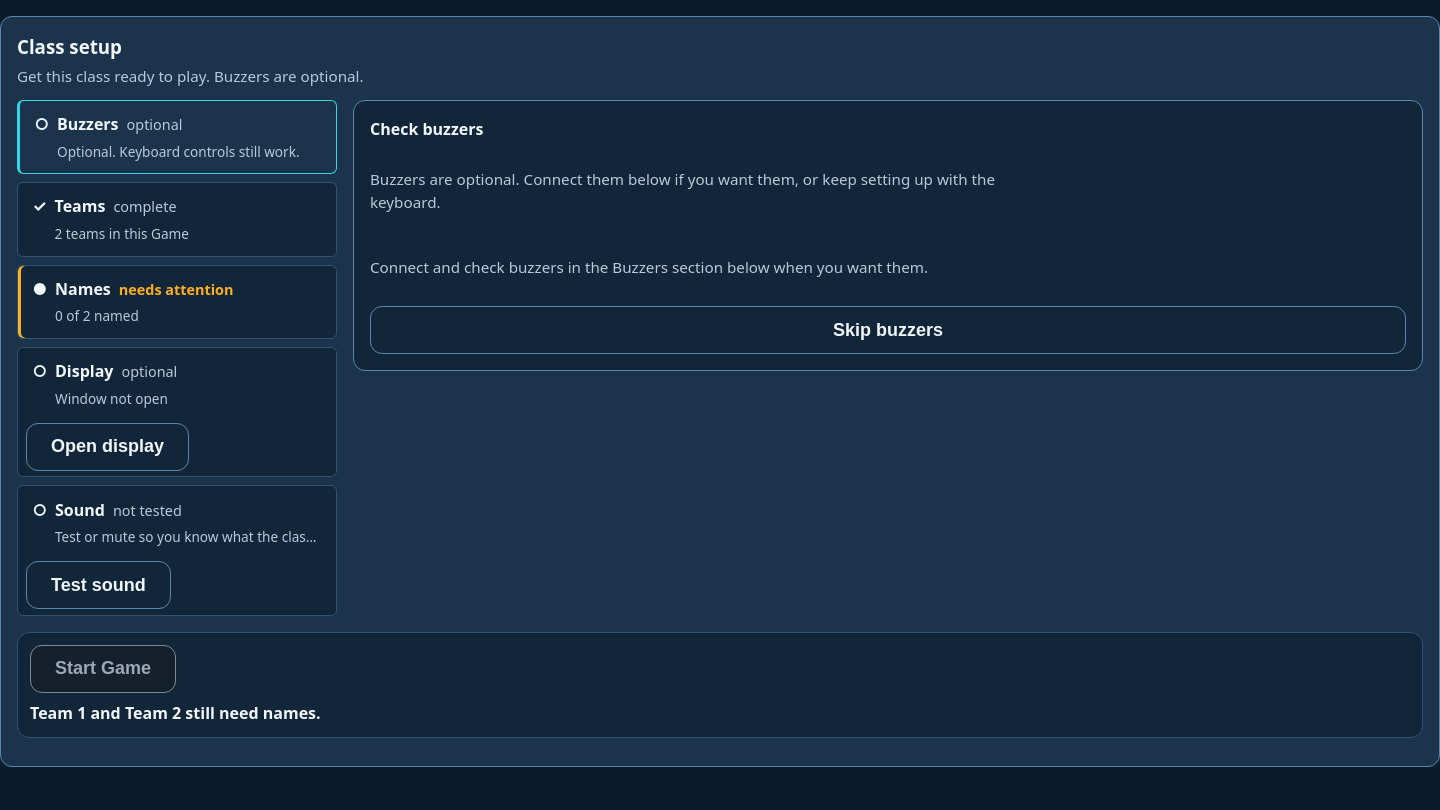
Scenario: ClassroomSetupPanel › Phase 3 R1: leader publishes name-bank selection
Click the button with test id "readiness-names".
click(83, 289)  # box [26,271,328,332]
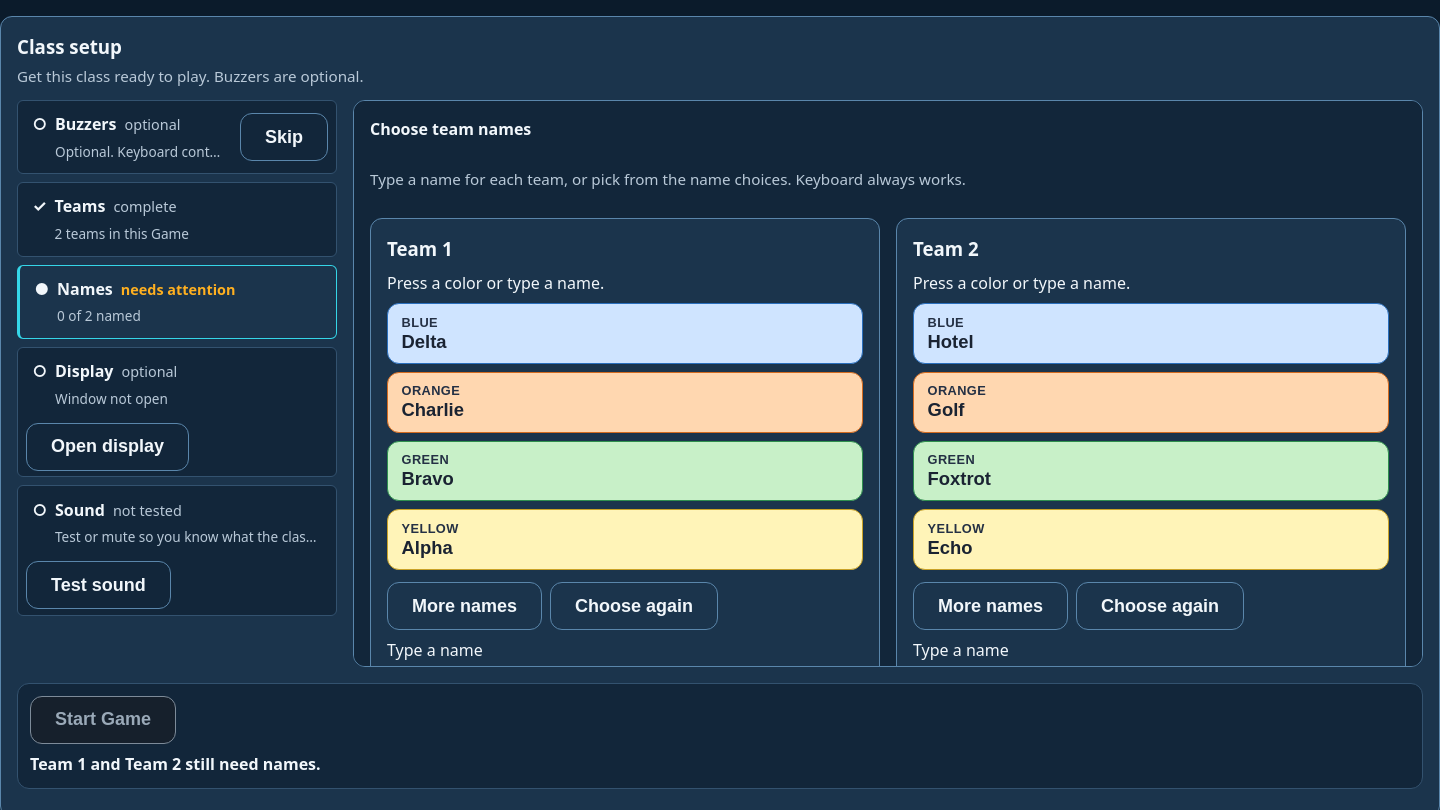
Click the button with test id "tnsb-choice-red-0".
click(430, 528)  # box [387,510,863,570]
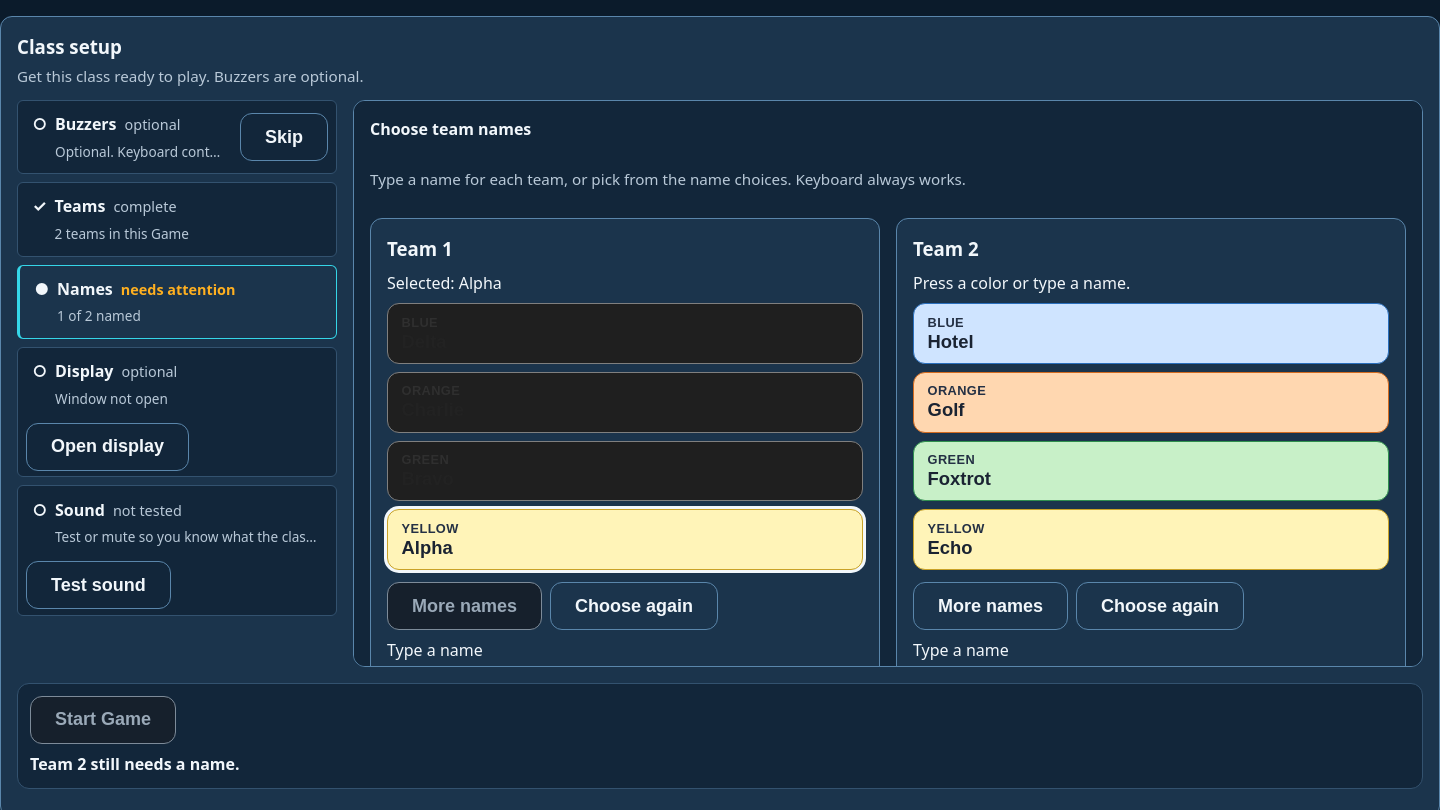
Result: the text with test id "tnsb-claimed-red" shows "Selected:" at [387,272,459,294]
